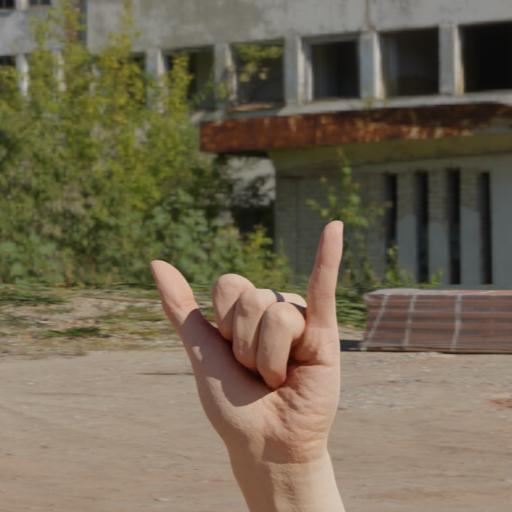Y: (136, 212, 348, 471)
